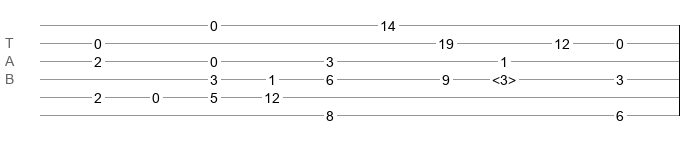0: (94, 36, 102, 46), (152, 90, 160, 100), (210, 54, 218, 64), (210, 18, 218, 28), (616, 36, 624, 46)
1: (268, 72, 276, 82), (500, 54, 508, 64)
12: (264, 90, 280, 100), (554, 36, 570, 46)
14: (380, 18, 396, 28)
19: (438, 36, 454, 46)
2: (94, 54, 102, 64), (94, 90, 102, 100)
3: (210, 72, 218, 82), (326, 54, 334, 64), (616, 72, 624, 82)
5: (210, 90, 218, 100)
6: (326, 72, 334, 82), (616, 108, 624, 118)
8: (326, 108, 334, 118)
9: (442, 72, 450, 82)
harmonic: (492, 72, 516, 82)
